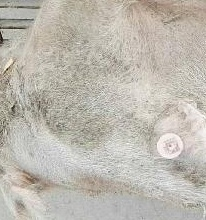text: (146, 121, 191, 169)
